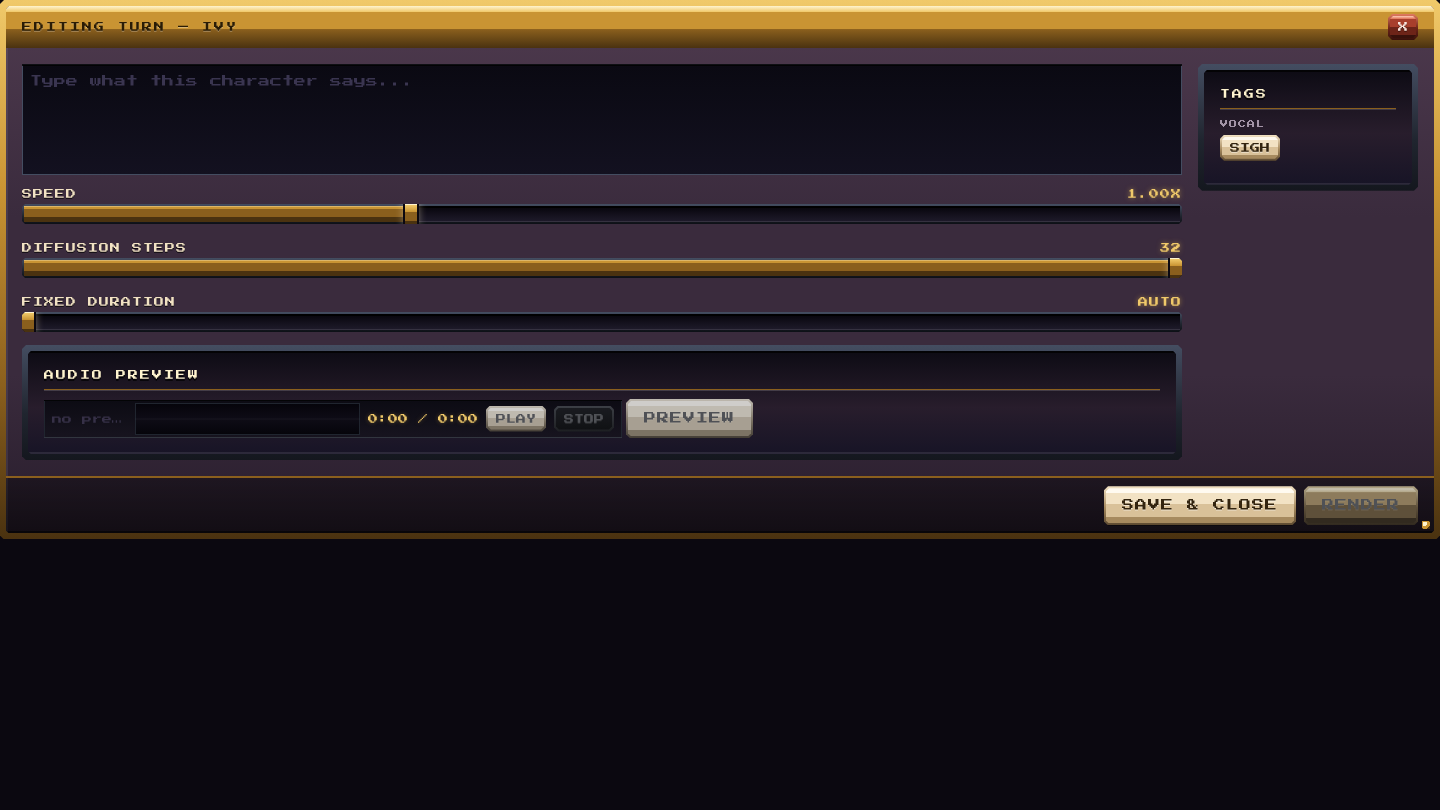
Test: TurnEditor › surfaces a preview error
The image size is (1440, 810).
Type "Hi" into the text box named "Turn text". click: (602, 120)
box: [22,64,1182,175]
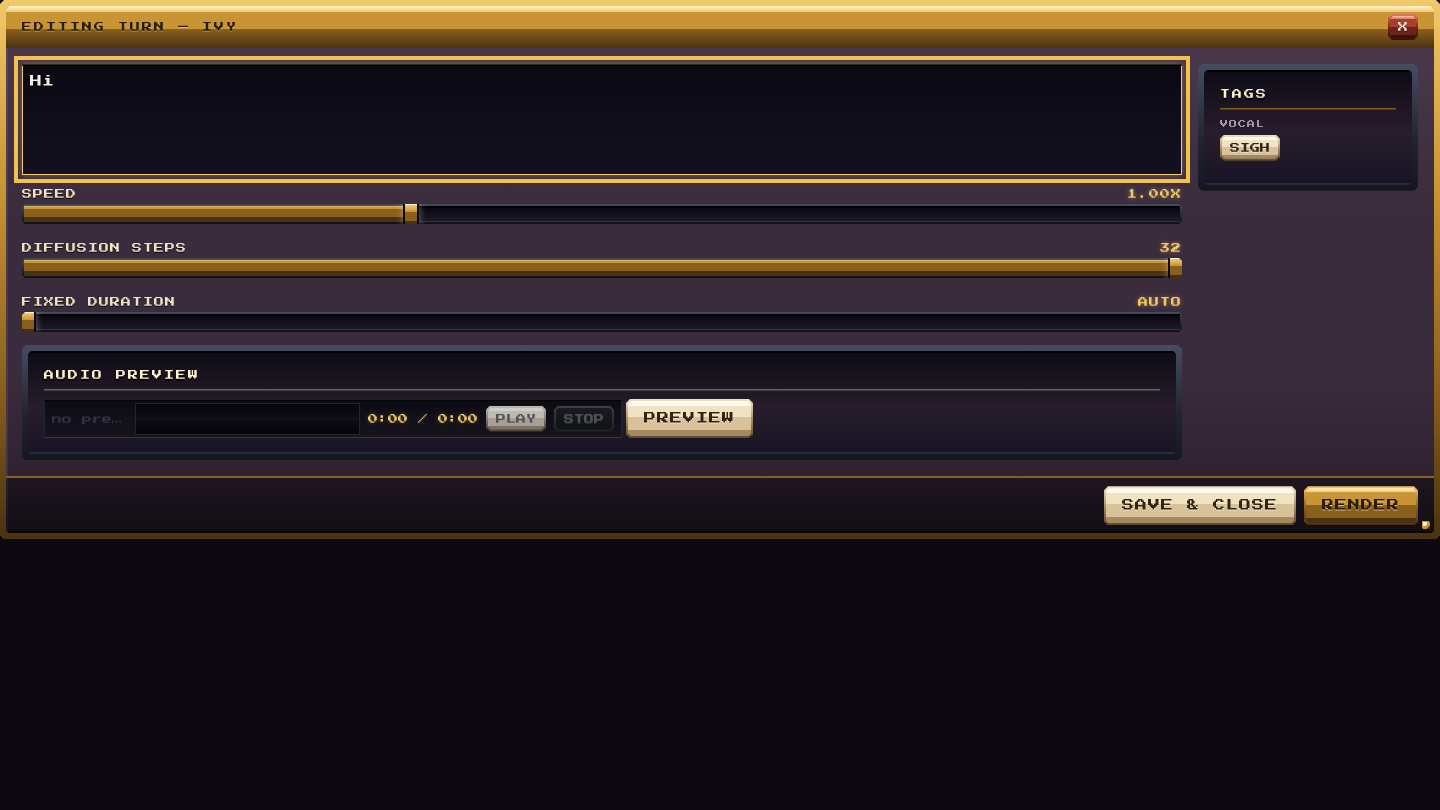
Click the button "Preview". click: (690, 419)
box: [626,399,753,438]
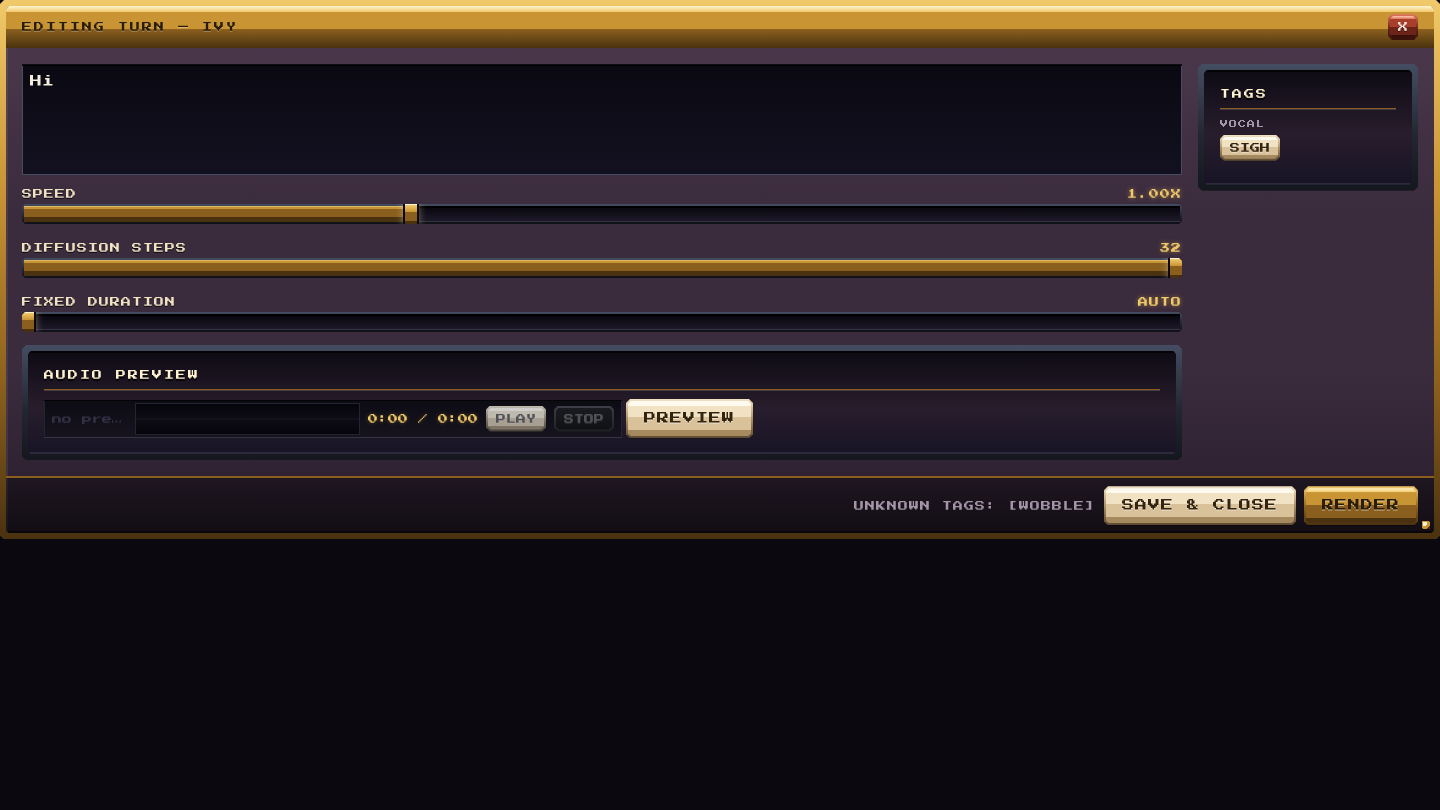
Expected: the text "unknown tags: [wobble]" is shown, [854,498,1096,514]
